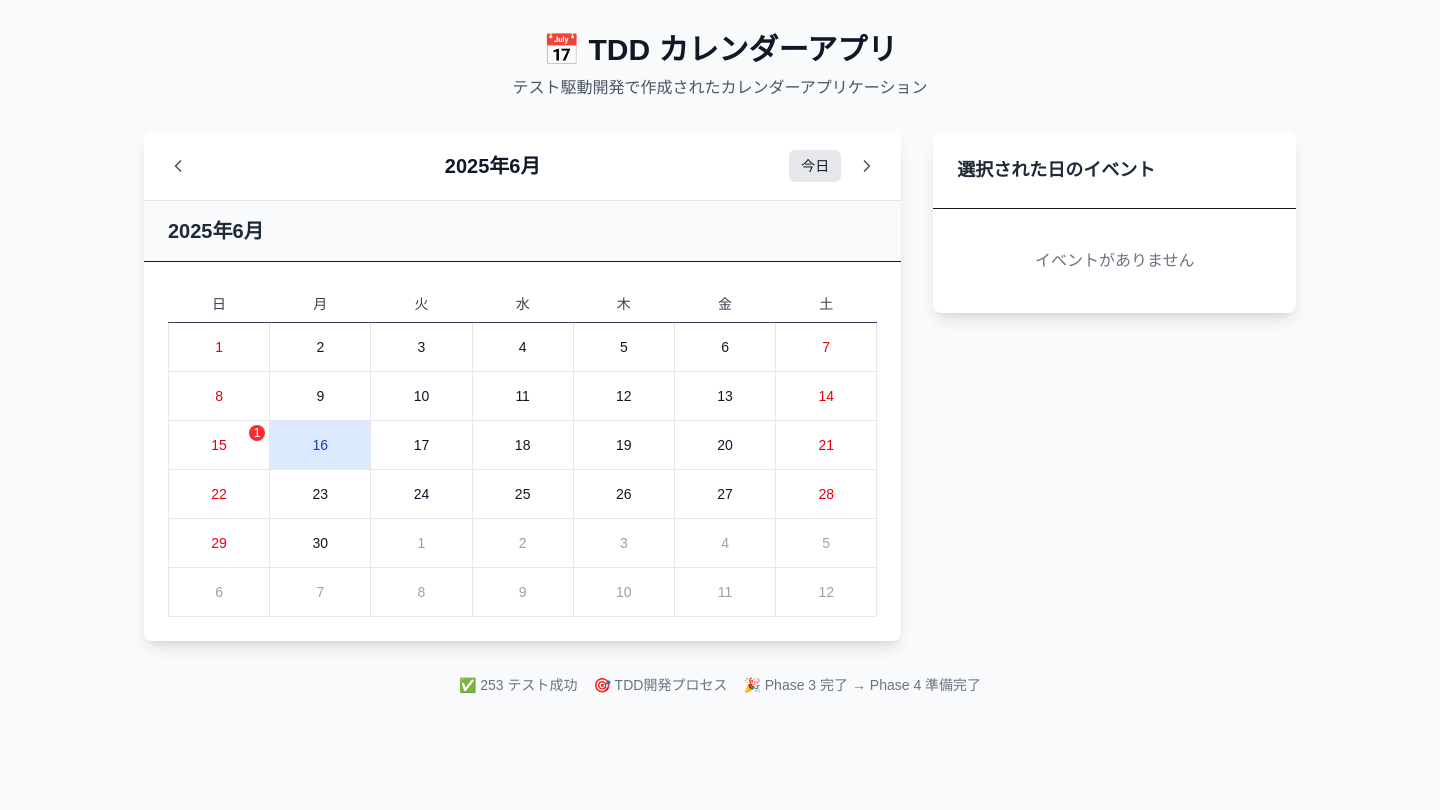
Test: MainPage統合テスト › 日付を選択するとその日のイベントが表示される
Note: 6月15日をクリック
Click the button "15 1".
click(219, 445)  # box [169,421,269,469]
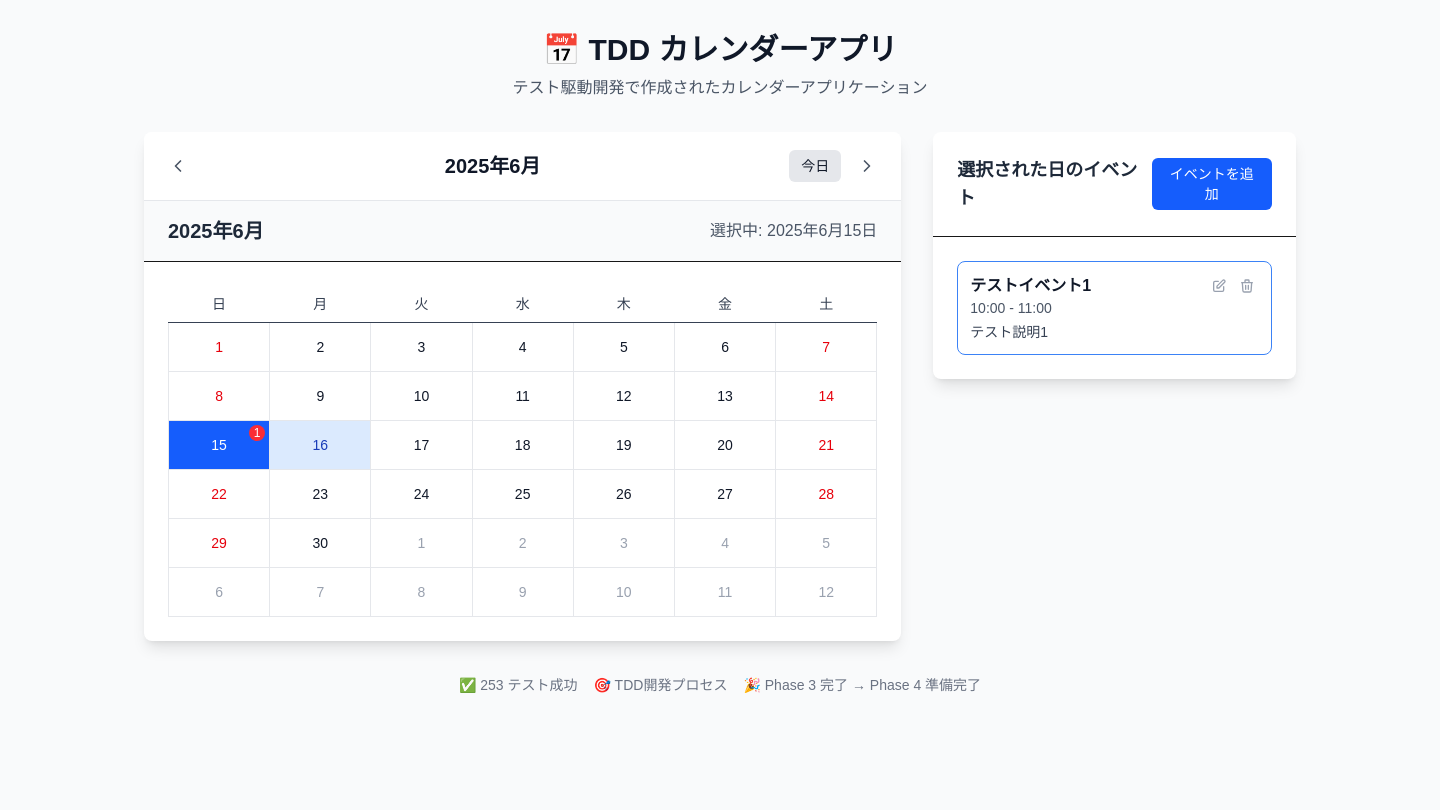
Now the heading "テストイベント1" is shown, box [970,277,1091,294]
Now the text "10:00 - 11:00" is shown, box [970,300,1052,316]
